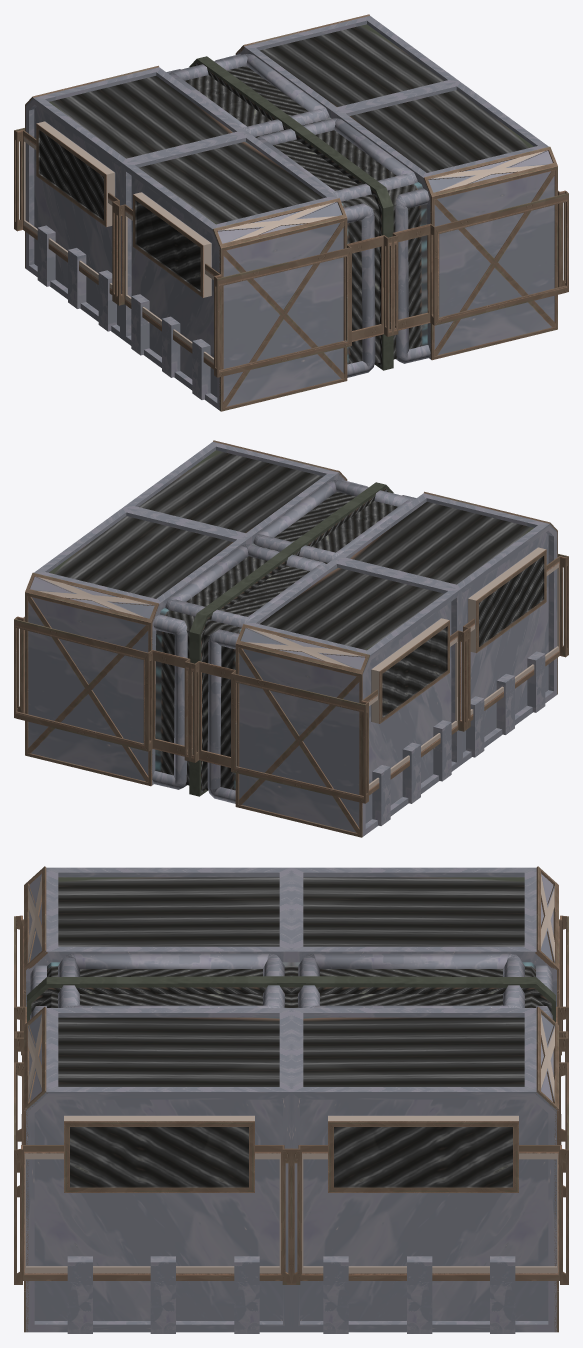
Rendered from Tech_Cube.fbx.
3 views of the same model, one above another, from view 1: azimuth 30°, elevation 25°; view 2: azimuth 150°, elevation 25°; view 3: azimuth 270°, elevation 25° (orthographic). The views are drawn at different scales.
Parts seen in each view (by area): view 1: Tech_Cube; view 2: Tech_Cube; view 3: Tech_Cube.
Boxes of the visible parts, bbox=[...] form: Tech_Cube: bbox=[14, 14, 568, 411]; Tech_Cube: bbox=[14, 440, 568, 837]; Tech_Cube: bbox=[14, 866, 568, 1333].
Bounding box in the file's own units: 209 × 102 × 209.
